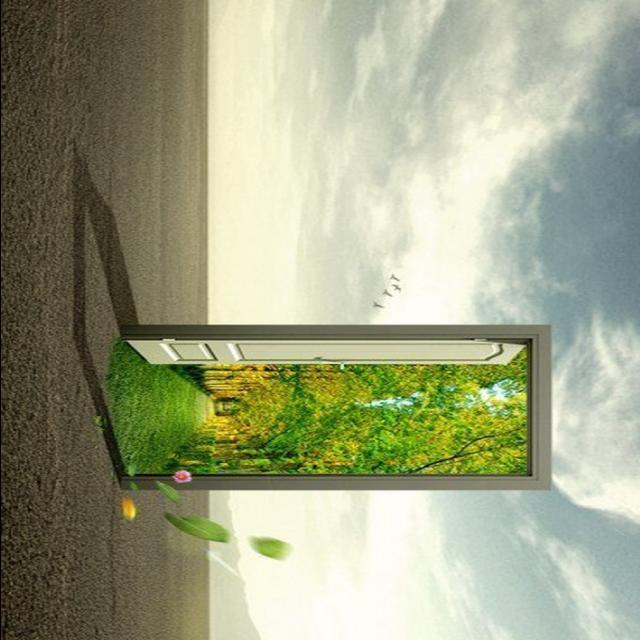open: (118, 330, 552, 491)
